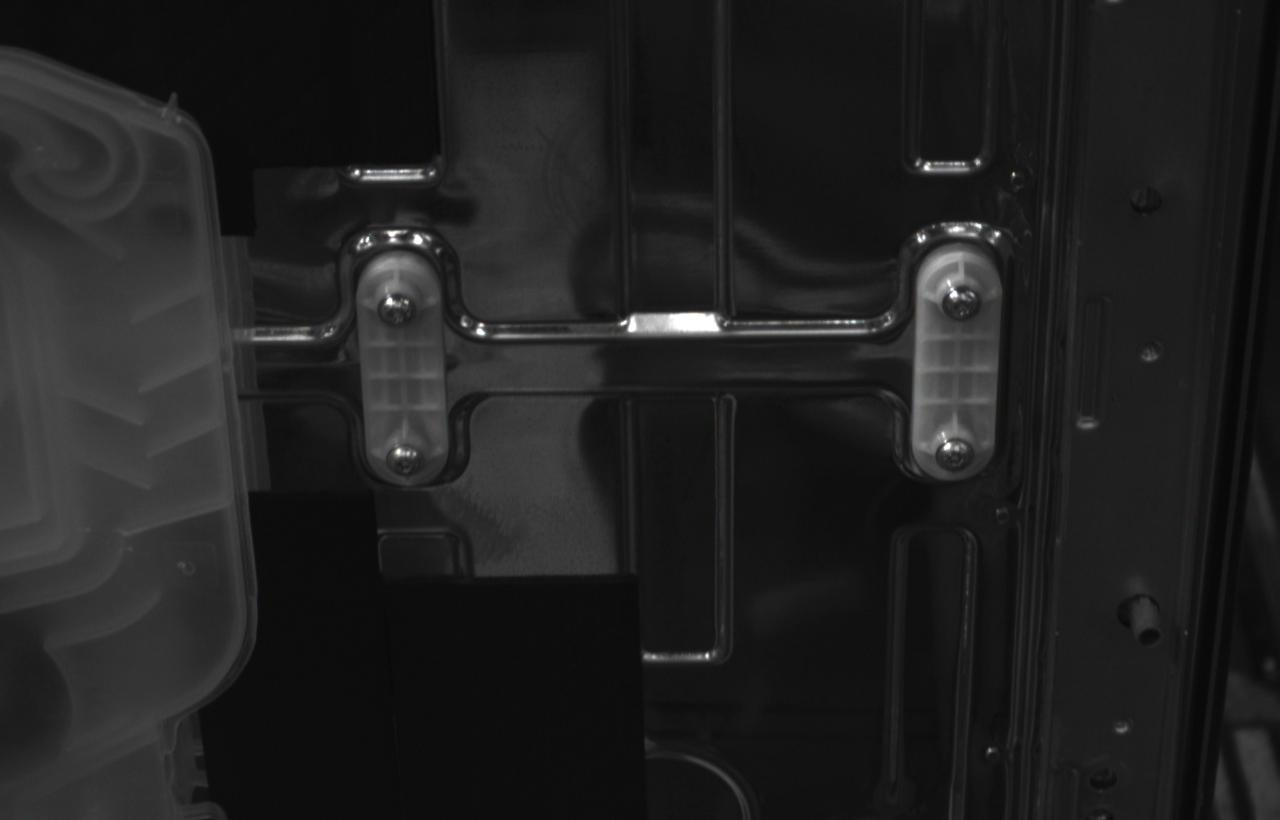vida-ok: (941, 285, 982, 324), (376, 292, 417, 330), (934, 436, 975, 474), (384, 444, 427, 478)
